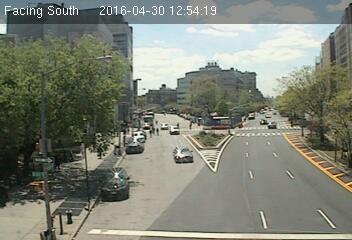neg: (150, 48, 176, 83), (15, 61, 39, 94), (271, 41, 293, 71), (232, 49, 254, 78), (60, 54, 81, 80), (32, 183, 51, 210), (311, 106, 329, 130), (26, 29, 44, 53), (258, 53, 275, 76), (324, 63, 340, 85), (89, 44, 105, 65), (59, 172, 74, 192), (199, 69, 213, 88), (307, 39, 320, 56), (315, 25, 327, 40), (304, 92, 314, 106), (99, 29, 108, 41), (36, 132, 45, 144), (175, 97, 182, 105)
pos: (95, 145, 105, 158), (187, 118, 196, 130), (152, 117, 159, 126), (124, 126, 131, 135), (156, 127, 162, 136), (152, 126, 158, 134), (146, 127, 152, 135), (175, 122, 181, 129)
